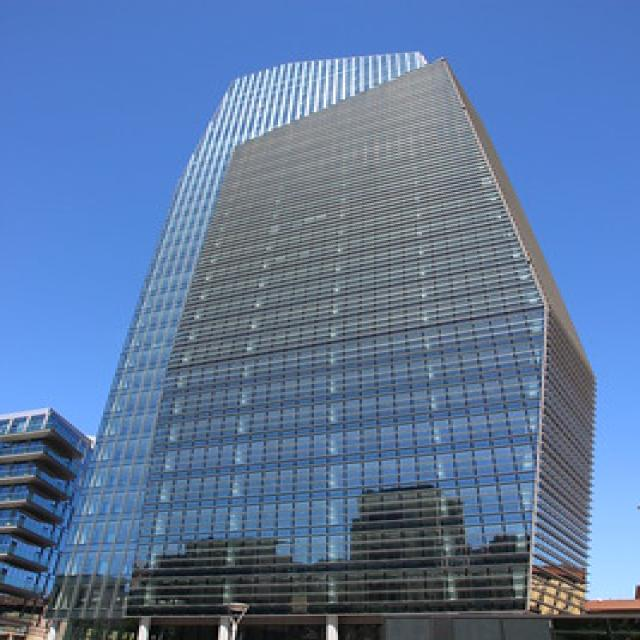building: (51, 40, 603, 632)
